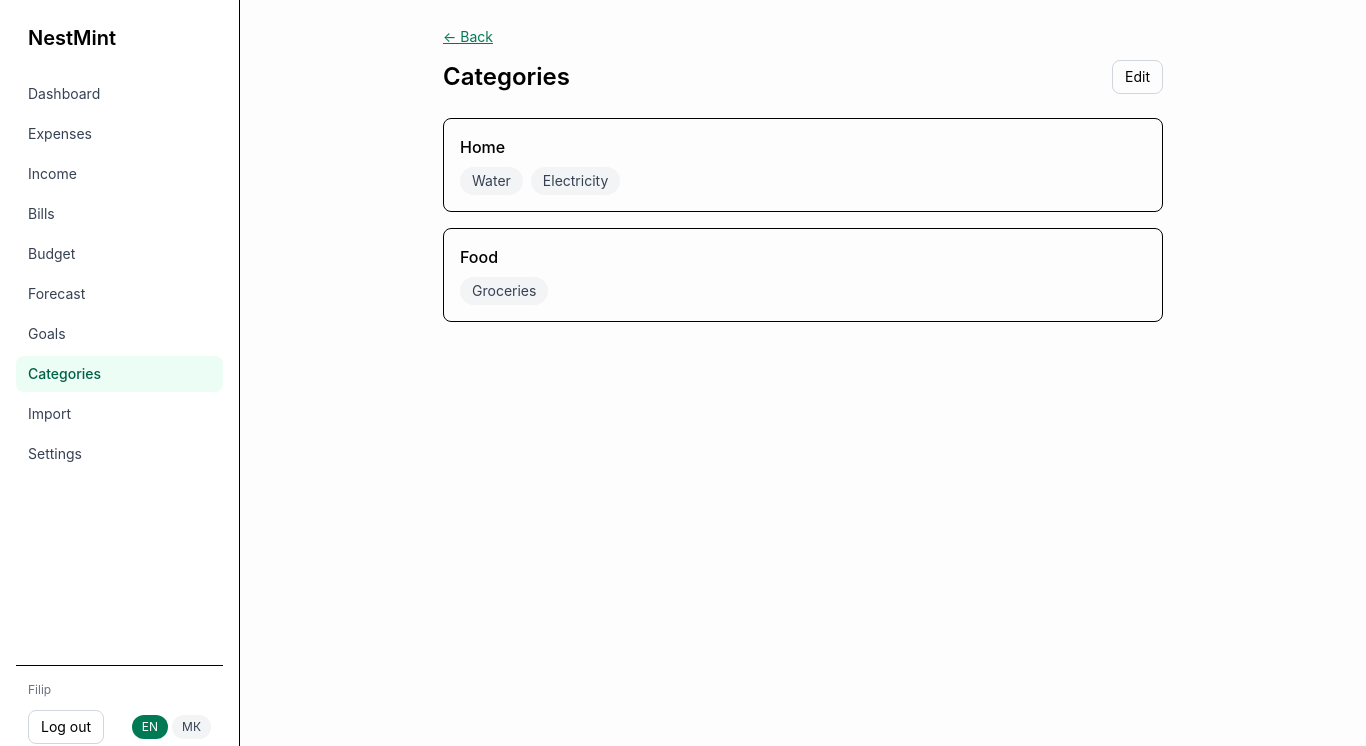
Test case: editing categories › shows archived items on request and restores them
The image size is (1366, 746).
Click the button "Edit" at x=1138, y=77, box [1112, 60, 1163, 94]
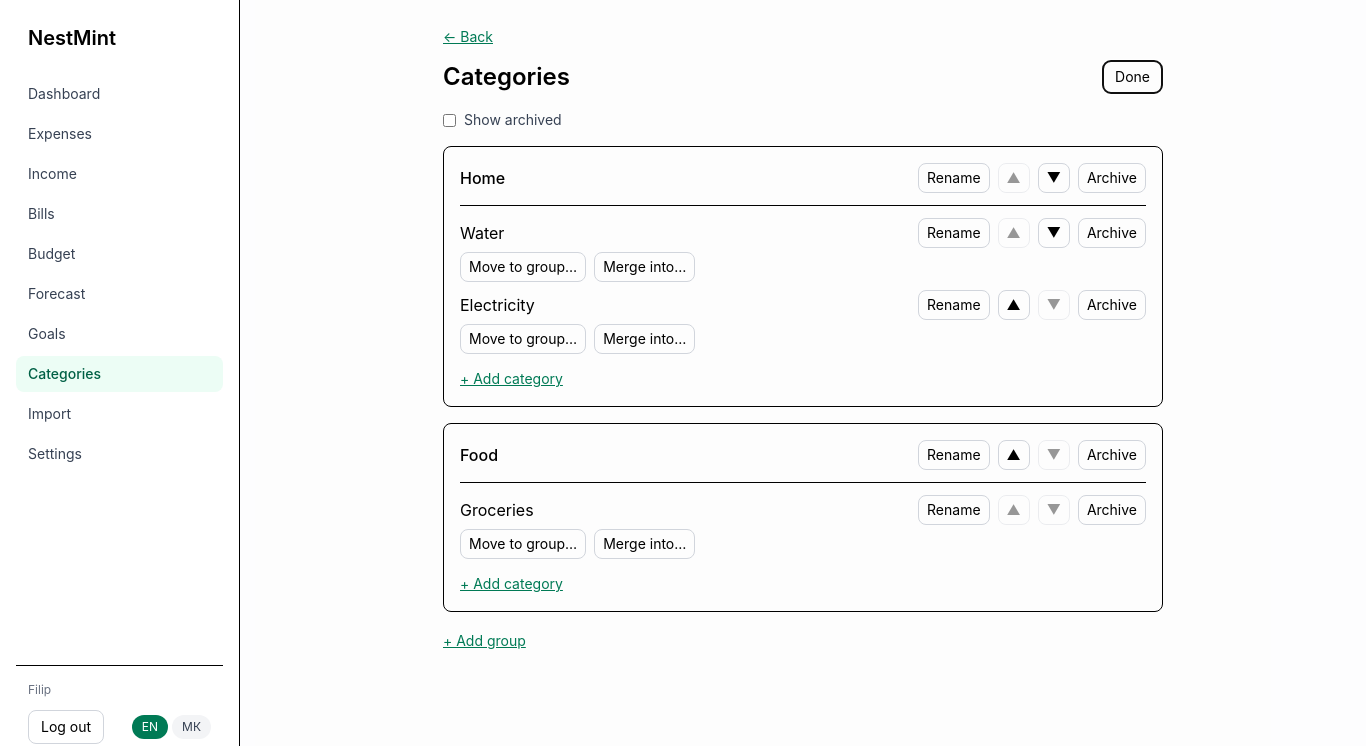
Click the checkbox labelled "Show archived" at x=450, y=120, box [443, 114, 456, 126]
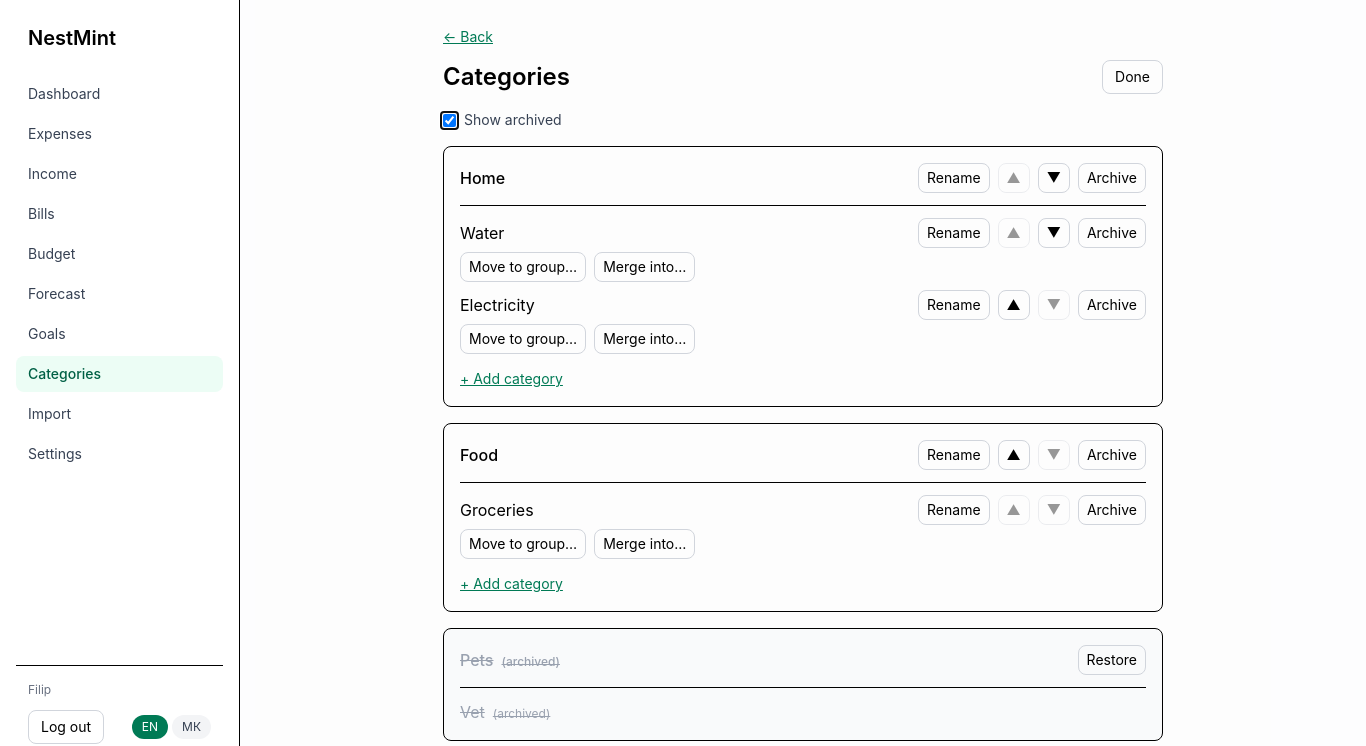
Now the heading "Pets(archived)" is shown, box [460, 648, 560, 672]
Click the button with aria-label "Restore Pets" at x=1112, y=660, box [1078, 645, 1146, 675]
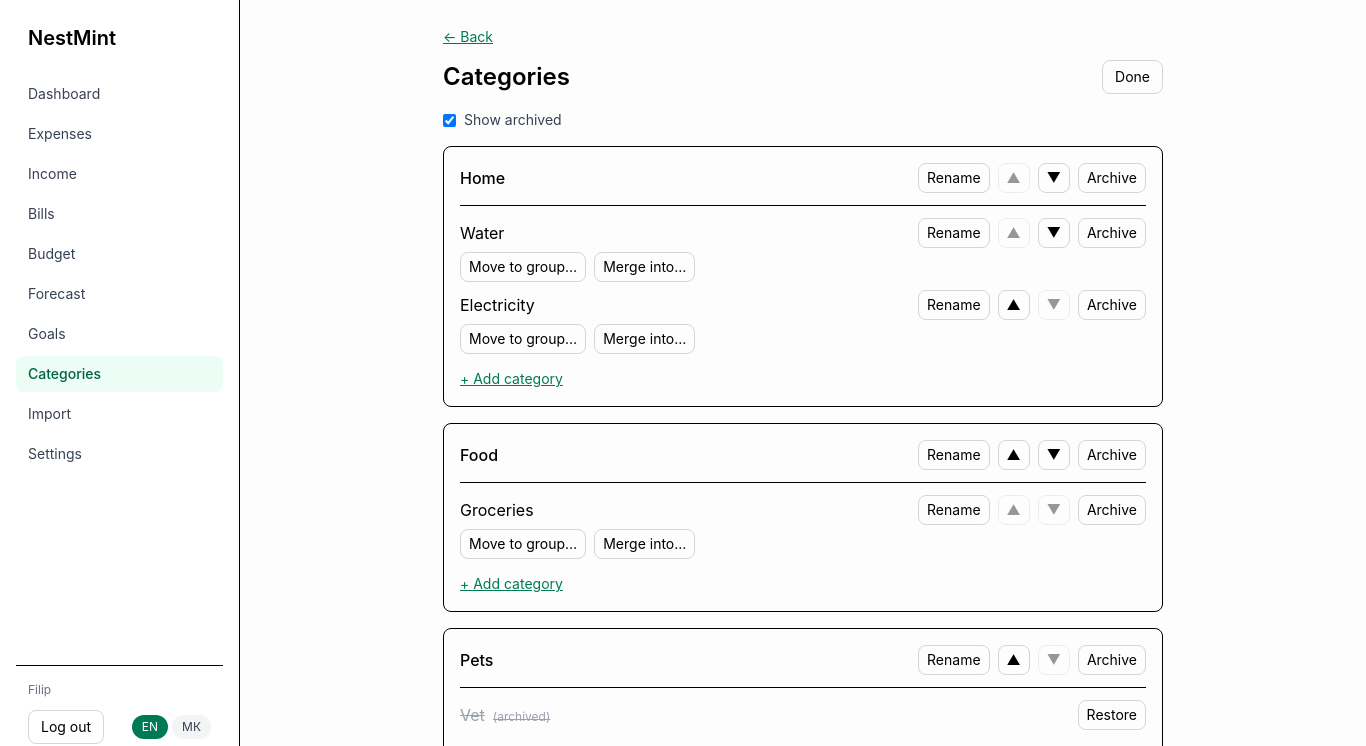
Now the button with aria-label "Rename Pets" is shown, box [918, 645, 990, 675]
Now the button with aria-label "Restore Vet" is shown, box [1078, 700, 1146, 730]
